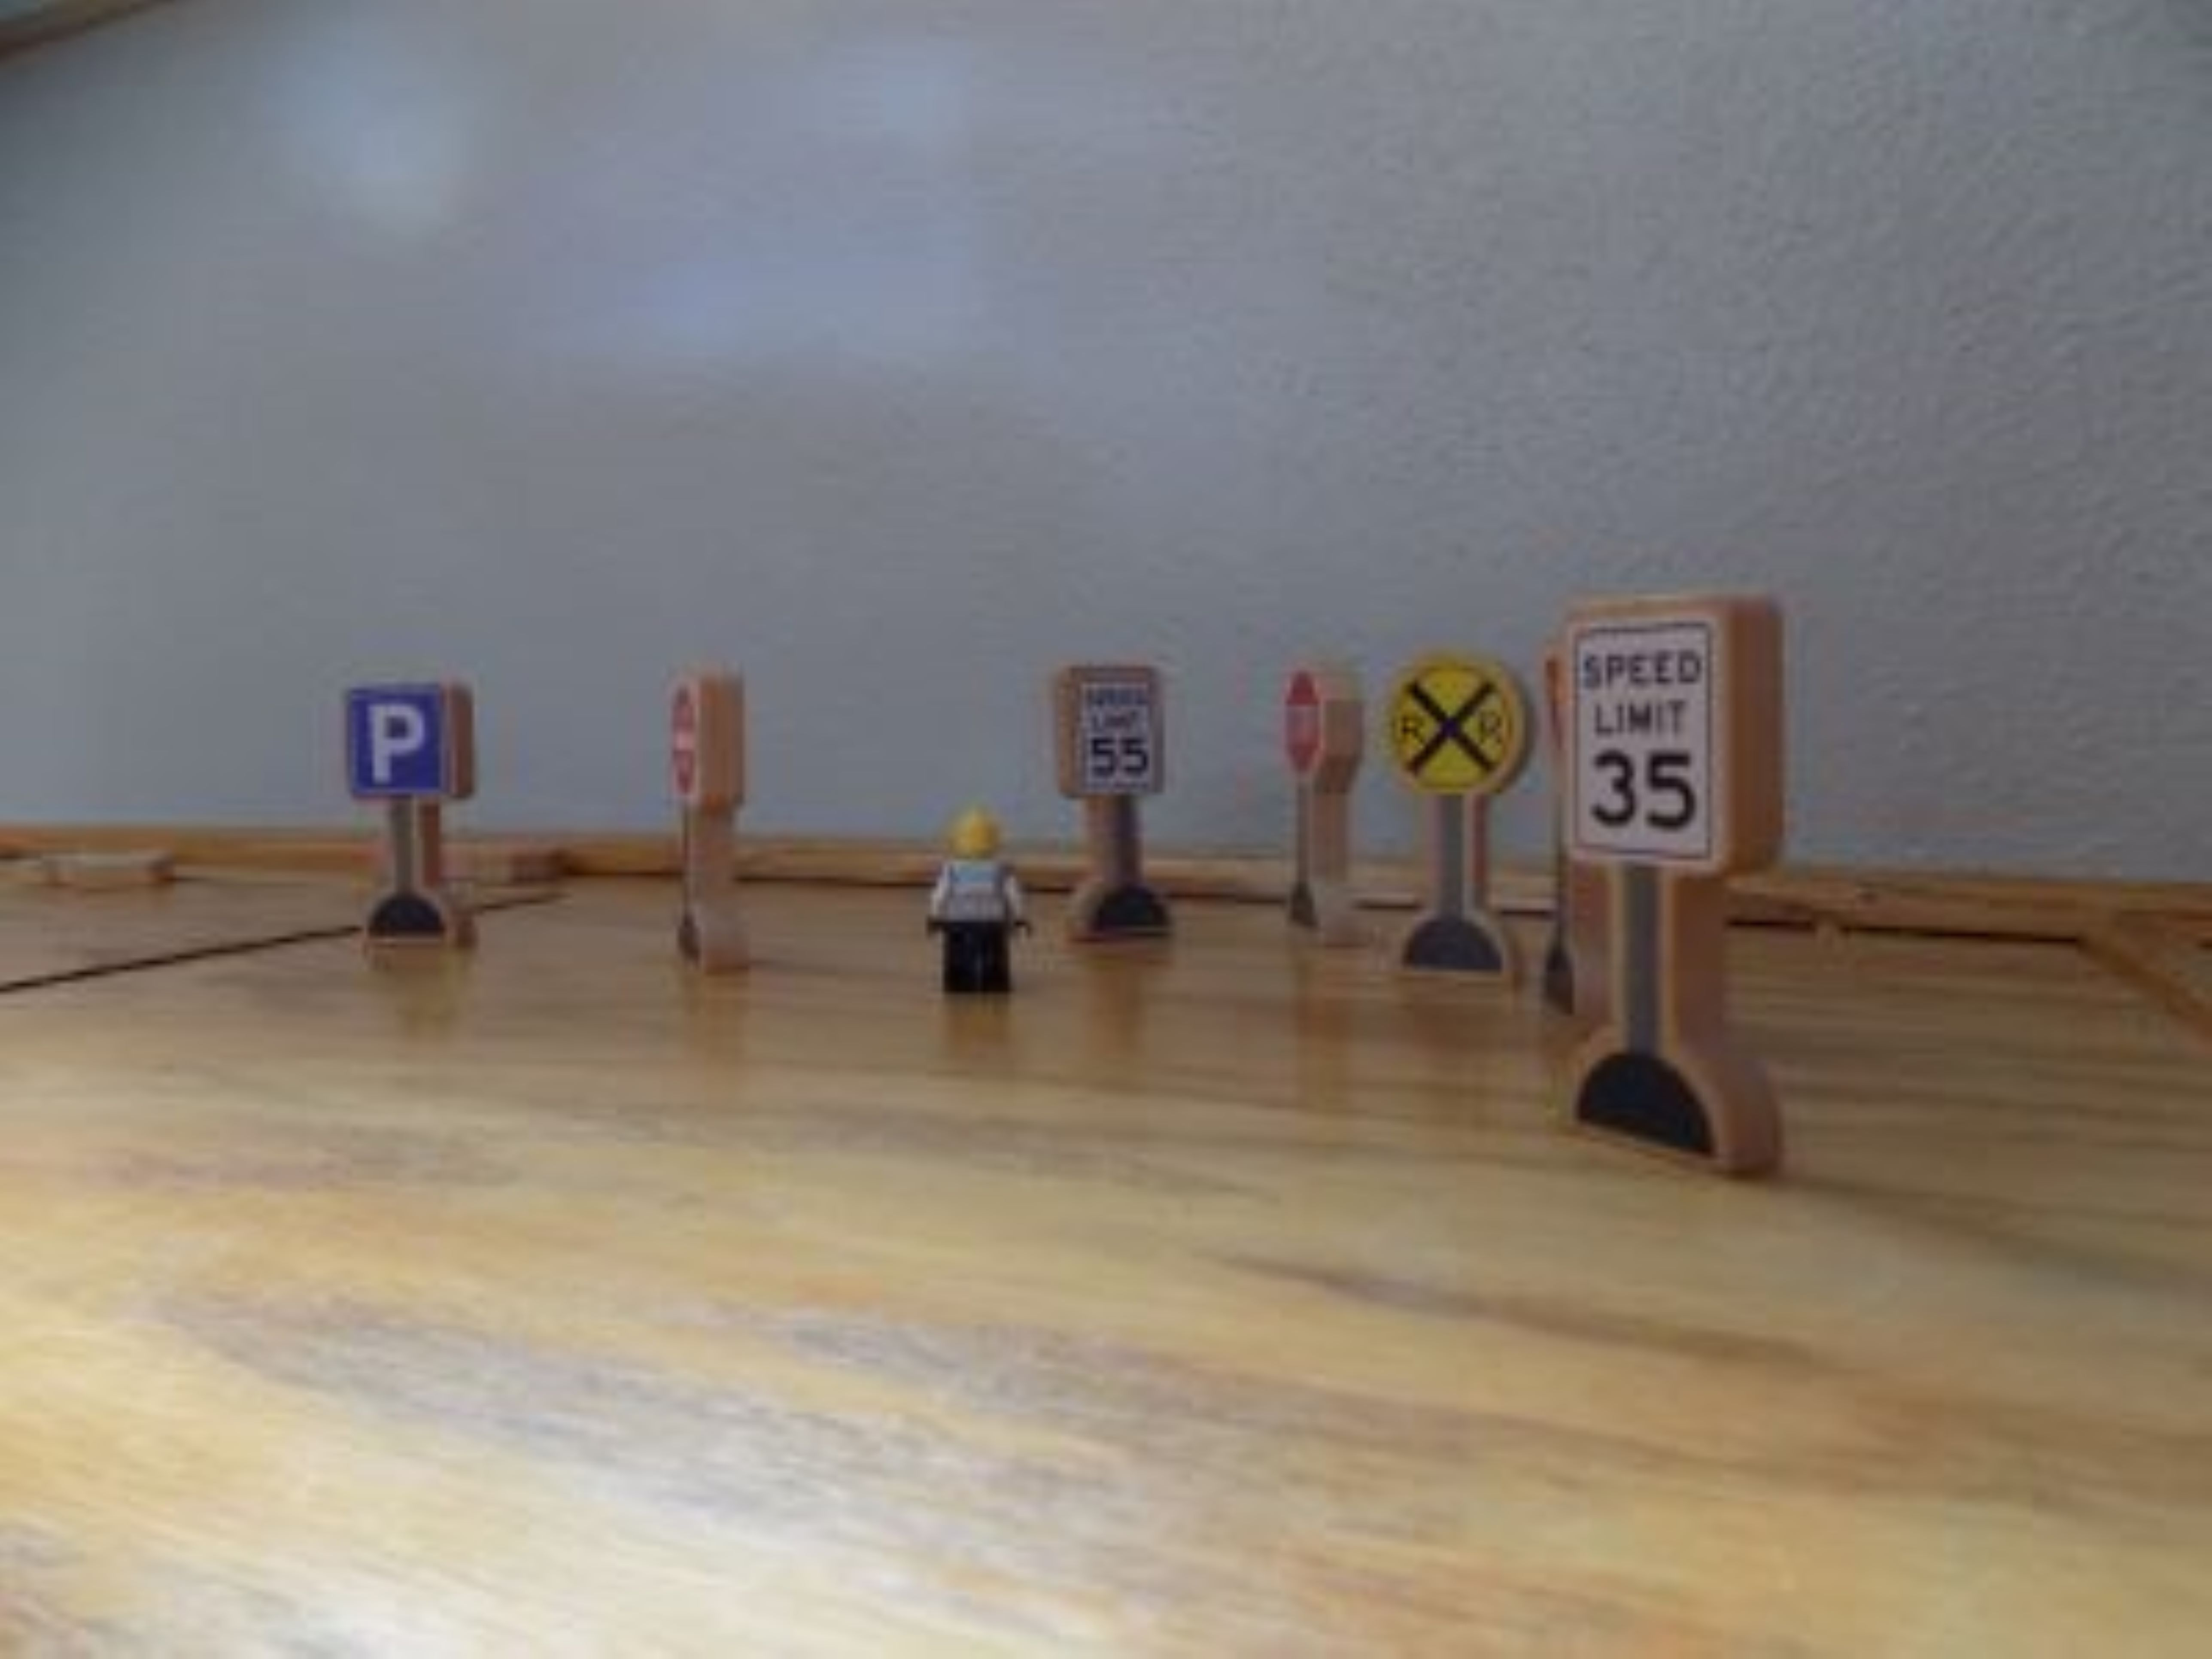Do Not Enter: (664, 654, 743, 826)
Parking Sign: (339, 687, 487, 821)
Person: (915, 811, 1036, 1006)
Rail Road Sign: (1387, 651, 1534, 817)
Speed Limit 35: (1559, 613, 1744, 891)
Speed Limit 55: (1045, 654, 1184, 814)
Stop Sign: (1275, 663, 1366, 799)
